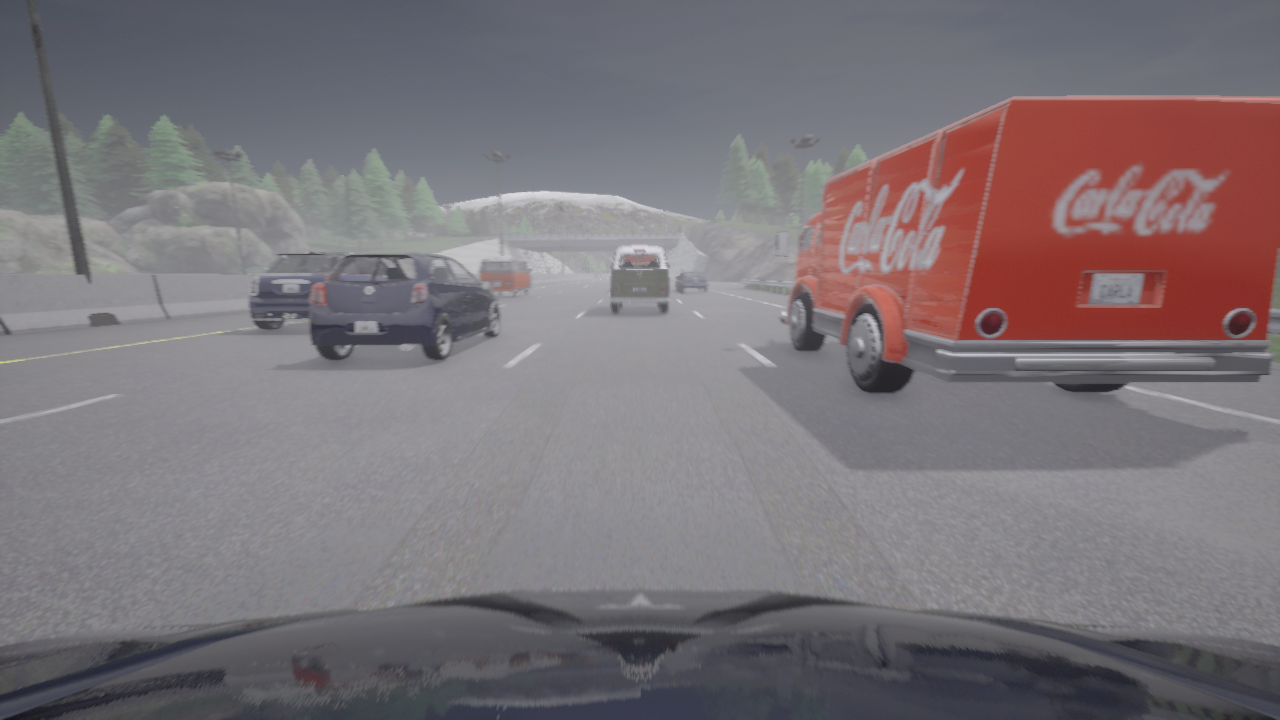cyclist: (0, 588, 1279, 719), (775, 96, 1279, 392), (309, 253, 500, 360), (247, 246, 354, 329), (610, 245, 669, 312), (479, 258, 531, 297), (676, 271, 708, 291)
